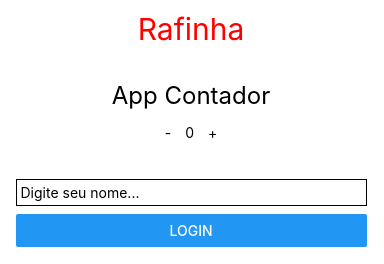
App ComponentTests › should decrease counter when pressing button
Click the text "-" at [168, 132], box [165,124,171,141]
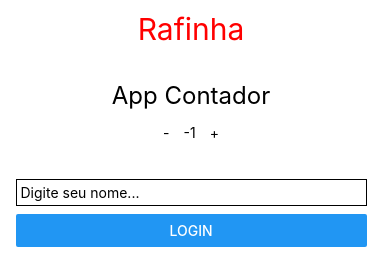
Expected: the text "-1" is shown, [184,124,196,141]
